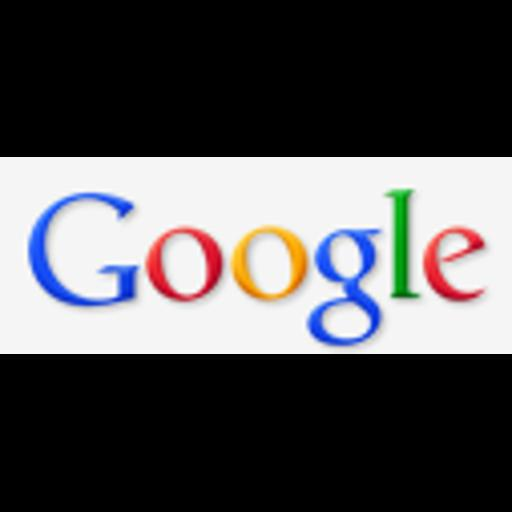Google: (0, 157, 512, 354)
